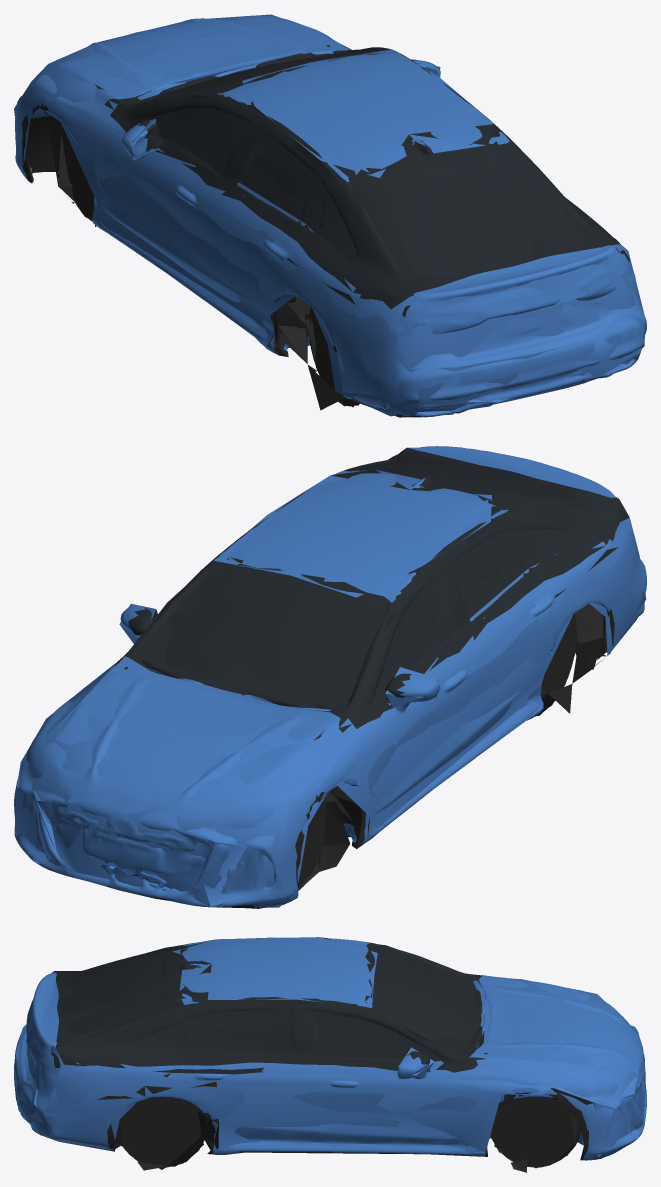
The model's file is audi-a6.glb.
3 renders of one model, top to bottom at view 1: azimuth 30°, elevation 25°; view 2: azimuth 150°, elevation 25°; view 3: azimuth 270°, elevation 25°, orthographic. The views are drawn at different scales.
Visible parts, largest first — view 1: body, far; view 2: body, far; view 3: body, far.
Part boxes in pixels (x1=…): body: x1=15, y1=15, x2=646, y2=417; far: x1=14, y1=14, x2=645, y2=416; body: x1=14, y1=446, x2=646, y2=908; far: x1=14, y1=447, x2=646, y2=907; body: x1=14, y1=937, x2=646, y2=1172; far: x1=15, y1=937, x2=644, y2=1172.
Bounding box in the file's own units: 2.2 × 1.51 × 5.14.
